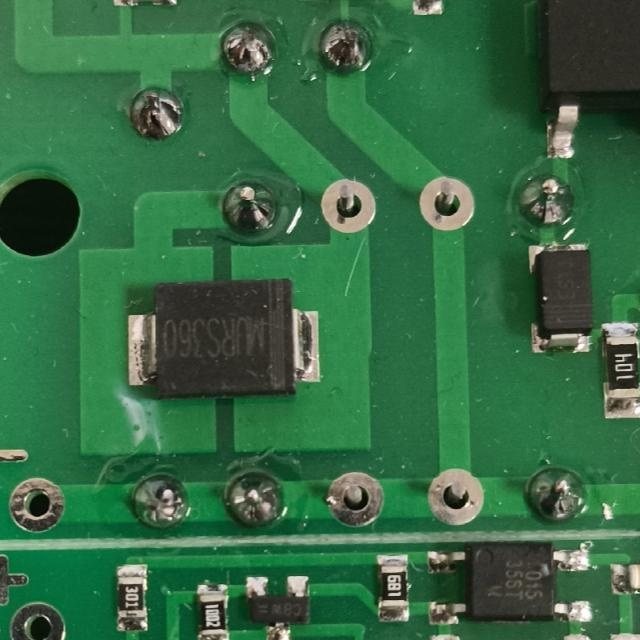chip-resistor: (598, 320, 640, 420), (113, 562, 151, 634), (373, 553, 412, 623), (194, 580, 231, 640)
diode: (122, 277, 324, 399), (524, 238, 596, 354)
ic: (424, 539, 600, 624)
transistor: (243, 572, 316, 640)
